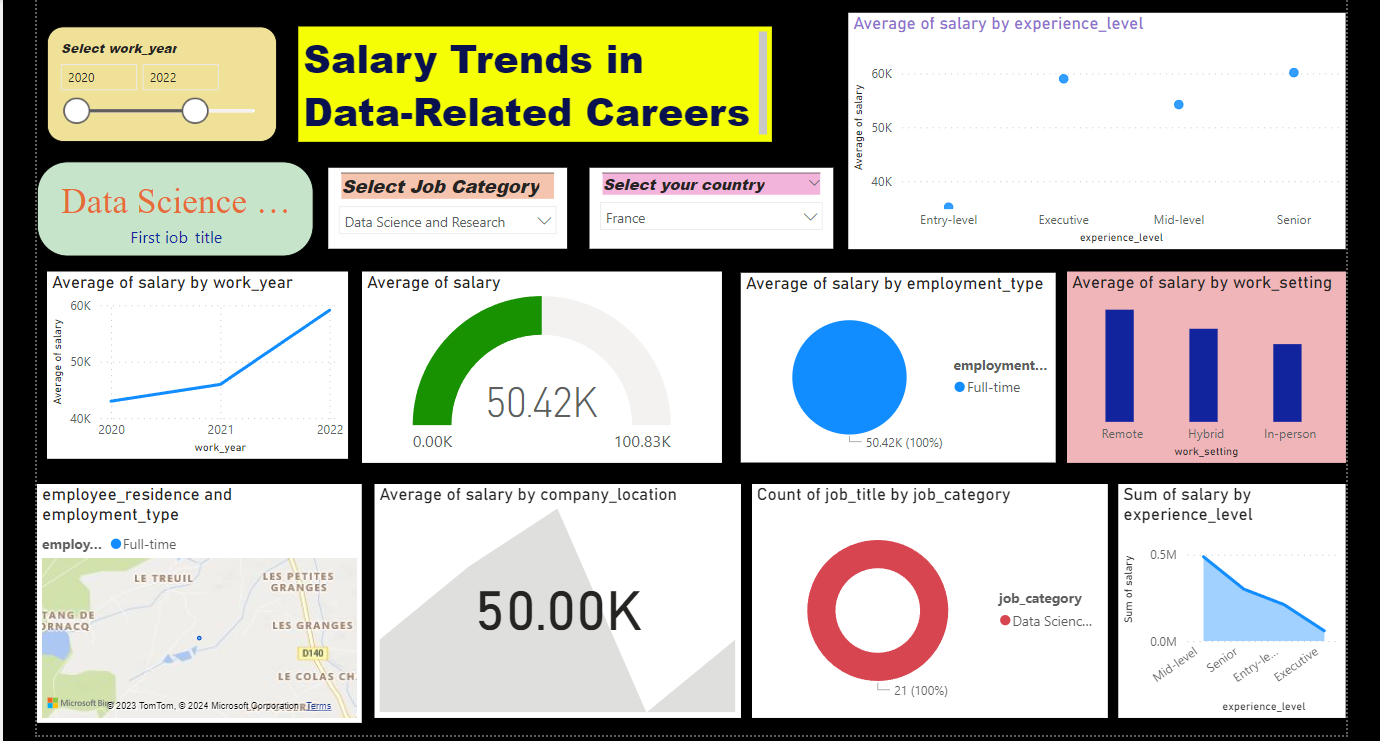

Layout of this report page (visuals, bound fields, positions):
{"tool":"powerbi","page":{"name":"Page 1","canvas":[1280,720],"ordinal":0},"visuals":[{"type":"lineChart","fields":{"Category":["jobs_in_data.work_year"],"Y":["Avg(jobs_in_data.salary)"]},"box":[9.8,266.5,294.6,183.4],"z":0},{"type":"gauge","fields":{"Y":["Avg(jobs_in_data.salary)"]},"box":[317.8,266.5,352.1,187],"z":1000},{"type":"map","fields":{"Category":["jobs_in_data.employee_residence"],"Series":["jobs_in_data.employment_type"]},"box":[0,474.3,317.8,233.5],"z":2000},{"type":"kpi","fields":{"TrendLine":["jobs_in_data.company_location"],"Indicator":["Avg(jobs_in_data.salary)"]},"box":[330.1,474.3,358.2,228.6],"z":3000},{"type":"slicer","fields":{"Values":["jobs_in_data.work_year"]},"box":[9.8,26.9,224.9,112.5],"z":4000},{"type":"slicer","fields":{"Values":["jobs_in_data.job_category"]},"box":[284.8,165,233.5,79.5],"z":5000},{"type":"slicer","fields":{"Values":["jobs_in_data.employee_residence"]},"box":[540.3,165,238.4,79.5],"z":6000},{"type":"card","fields":{"Values":["Min(jobs_in_data.job_title)"]},"box":[0,158.9,270.2,92.9],"z":7000},{"type":"donutChart","fields":{"Category":["jobs_in_data.job_category"],"Y":["CountNonNull(jobs_in_data.job_title)"]},"box":[699.2,474.3,348.4,228.6],"z":8000},{"type":"scatterChart","fields":{"X":["jobs_in_data.experience_level"],"Y":["Avg(jobs_in_data.salary)"]},"box":[793.3,13.4,486.5,231],"z":9000},{"type":"pieChart","fields":{"Y":["Avg(jobs_in_data.salary)"],"Category":["jobs_in_data.employment_type"]},"box":[688.2,267.7,308,185.8],"z":9001},{"type":"ribbonChart","fields":{"Category":["jobs_in_data.work_setting"],"Y":["Avg(jobs_in_data.salary)"]},"box":[1007.3,266.5,272.6,187],"z":9002},{"type":"areaChart","fields":{"Category":["jobs_in_data.experience_level"],"Y":["Sum(jobs_in_data.salary)"]},"box":[1057.4,474.3,222.5,228.6],"z":9003},{"type":"textbox","box":[255.5,26.9,463.3,112.5],"z":9004},{"type":"qnaVisual","box":[255.5,139.4,463.3,150],"z":9005}]}

Visuals, with their boxes in screenshot pixels (x1, y1, x2, y2):
lineChart - jobs_in_data.work_year x Avg(jobs_in_data.salary): region(53, 270, 352, 456)
gauge - Avg(jobs_in_data.salary): region(365, 270, 722, 460)
map - jobs_in_data.employee_residence x jobs_in_data.employment_type: region(43, 481, 365, 718)
kpi - jobs_in_data.company_location x Avg(jobs_in_data.salary): region(378, 481, 741, 713)
slicer - jobs_in_data.work_year: region(53, 27, 281, 141)
slicer - jobs_in_data.job_category: region(332, 167, 569, 248)
slicer - jobs_in_data.employee_residence: region(591, 167, 833, 248)
card - Min(jobs_in_data.job_title): region(43, 161, 317, 255)
donutChart - jobs_in_data.job_category x CountNonNull(jobs_in_data.job_title): region(752, 481, 1105, 713)
scatterChart - jobs_in_data.experience_level x Avg(jobs_in_data.salary): region(848, 14, 1341, 248)
pieChart - Avg(jobs_in_data.salary) x jobs_in_data.employment_type: region(741, 271, 1053, 460)
ribbonChart - jobs_in_data.work_setting x Avg(jobs_in_data.salary): region(1065, 270, 1341, 460)
areaChart - jobs_in_data.experience_level x Sum(jobs_in_data.salary): region(1115, 481, 1341, 713)
textbox: region(302, 27, 772, 141)
qnaVisual: region(302, 141, 772, 293)
